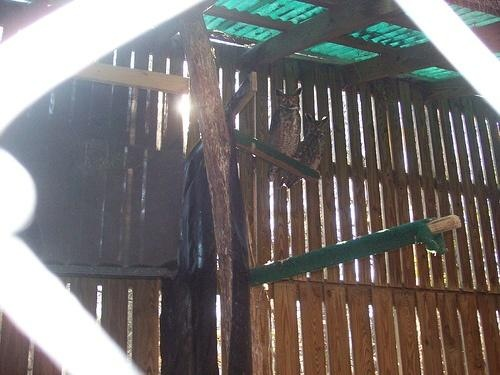bird: (268, 87, 304, 183), (284, 114, 330, 188)
